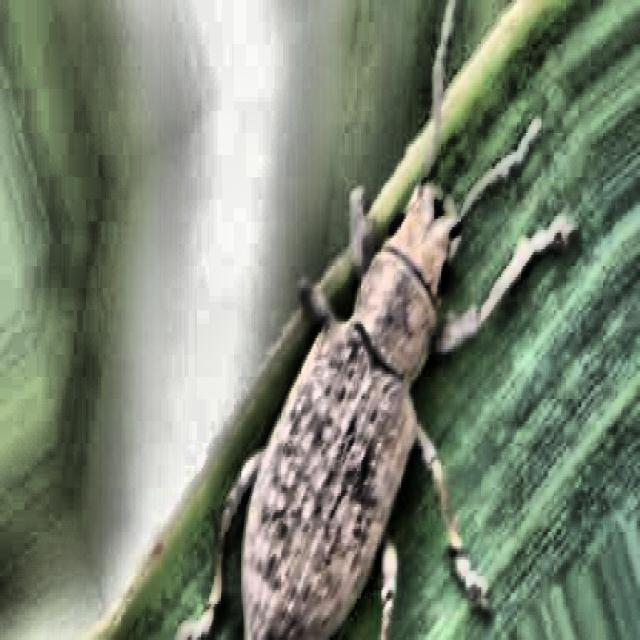Stink bug: (162, 90, 545, 640)
